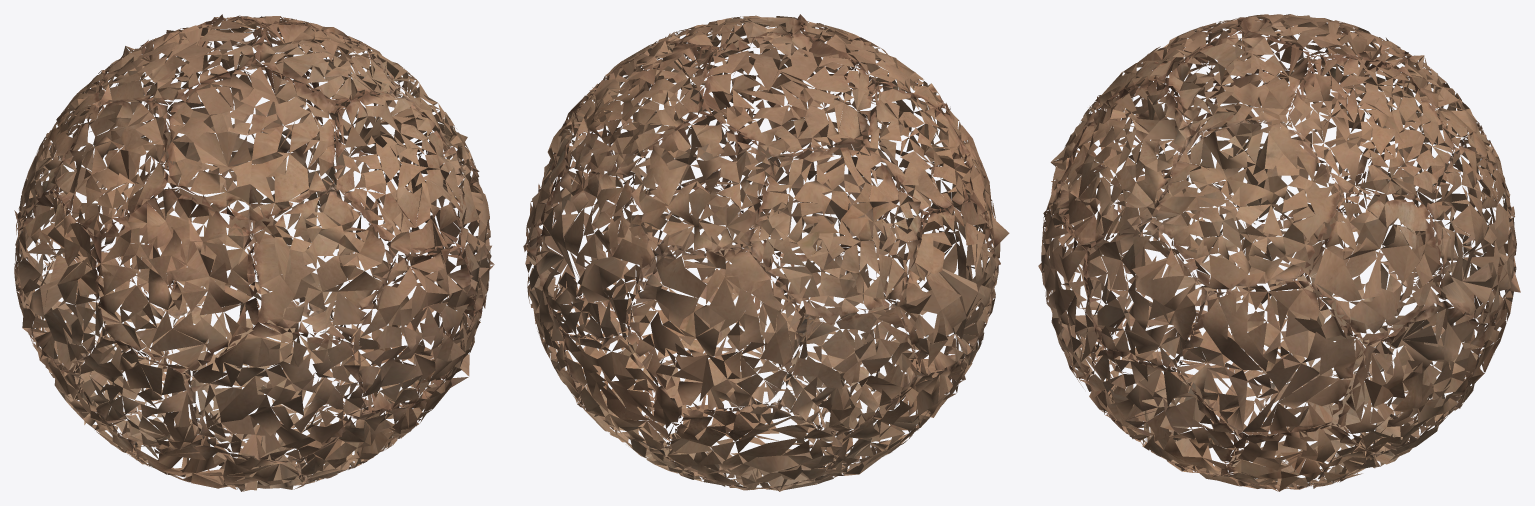
The model's file is dirty_football_leve.gltf.
3 renders of one model, left to right at view 1: azimuth 30°, elevation 25°; view 2: azimuth 150°, elevation 25°; view 3: azimuth 270°, elevation 25°, orthographic.
Parts seen in each view (by area): view 1: dirty_football; view 2: dirty_football; view 3: dirty_football.
Boxes of the visible parts, x1=… form: dirty_football: x1=14, y1=14, x2=494, y2=491; dirty_football: x1=523, y1=14, x2=1009, y2=491; dirty_football: x1=1038, y1=14, x2=1520, y2=491.
Size of the model in its own units: 0.2213 by 0.2208 by 0.2227.
1 material, 1 textured.
